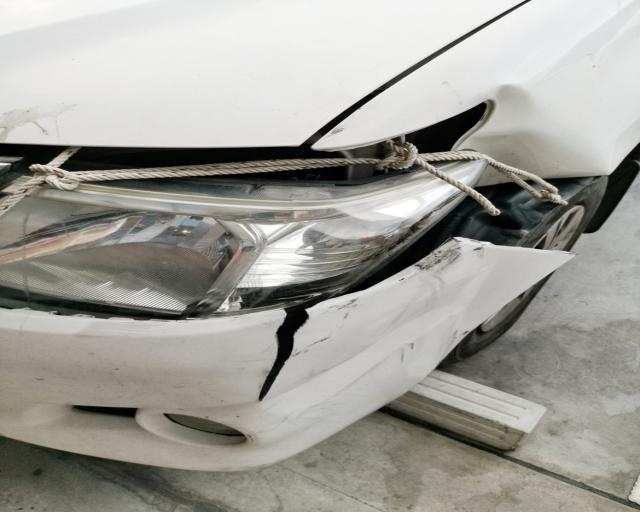crack: (256, 309, 313, 404)
dent: (463, 85, 591, 173)
scratch: (292, 297, 359, 359), (414, 238, 486, 271)
